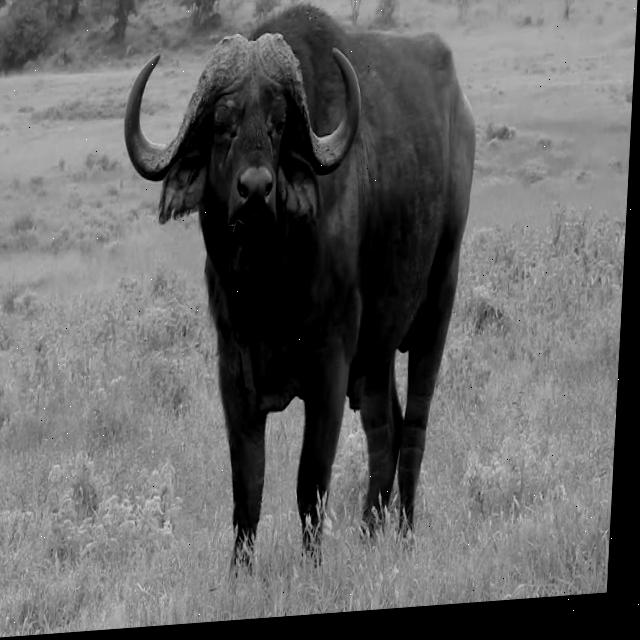Buffalo: (98, 0, 483, 586)
